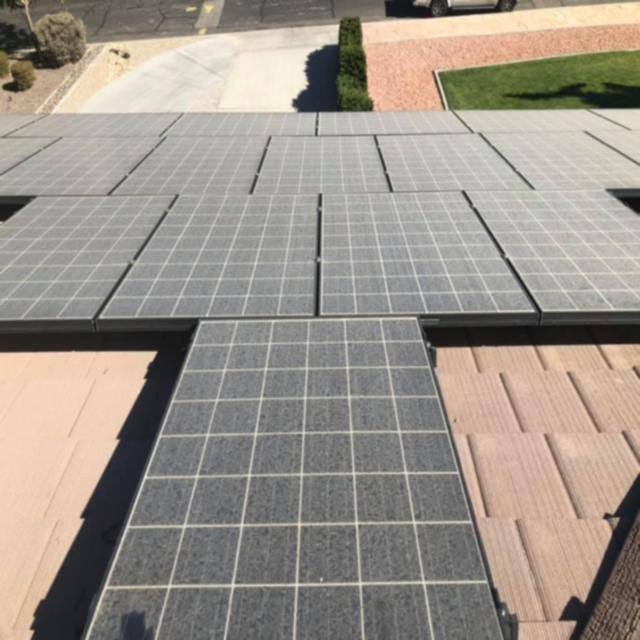soiled: (133, 320, 508, 640), (4, 196, 640, 328), (2, 138, 640, 198), (15, 109, 638, 138)
